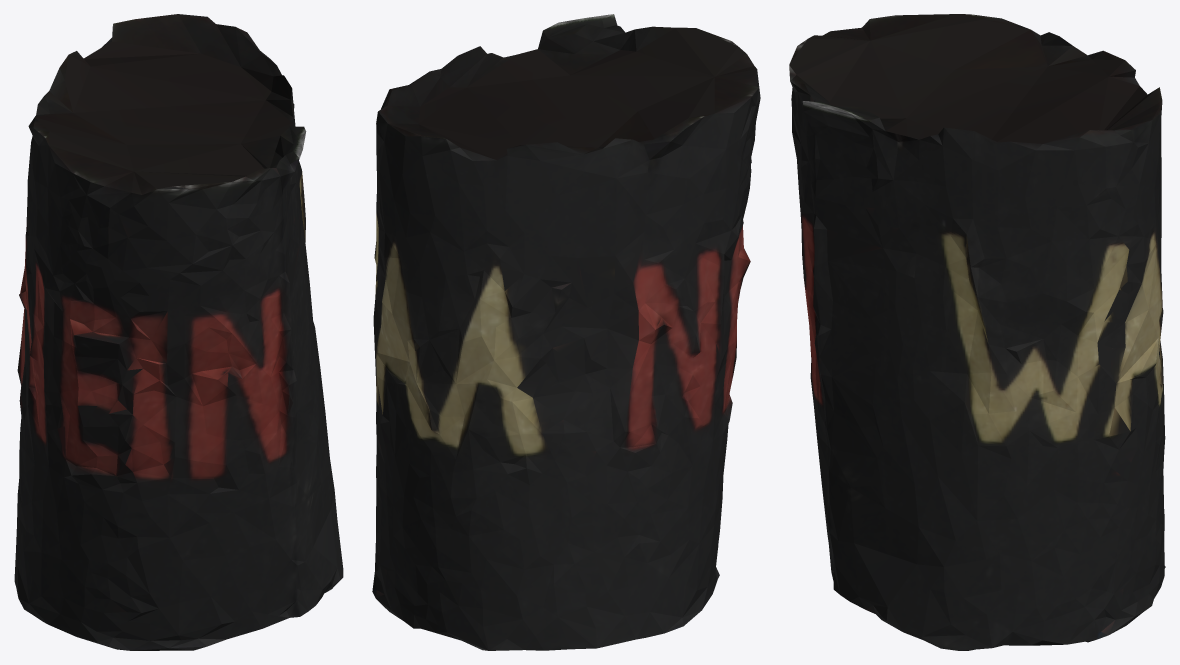
Rendered from 2FD8A37A-2133-AC47-9AC9-33FBA0AB5ED9_512.glb.
The picture shows the model from 3 angles, left to right: view 1: azimuth 30°, elevation 25°; view 2: azimuth 150°, elevation 25°; view 3: azimuth 270°, elevation 25°; orthographic projection.
Visible parts, largest first — view 1: WAA Laterne_1k; view 2: WAA Laterne_1k; view 3: WAA Laterne_1k.
Boxes of the visible parts, box(x1,y1,x2,y2) form: WAA Laterne_1k: box(14, 14, 343, 650); WAA Laterne_1k: box(372, 14, 760, 650); WAA Laterne_1k: box(789, 14, 1165, 650).
Bounding box in the file's own units: 0.0943 × 0.1545 × 0.1011.
Materials: 1 (1 with a texture image).
